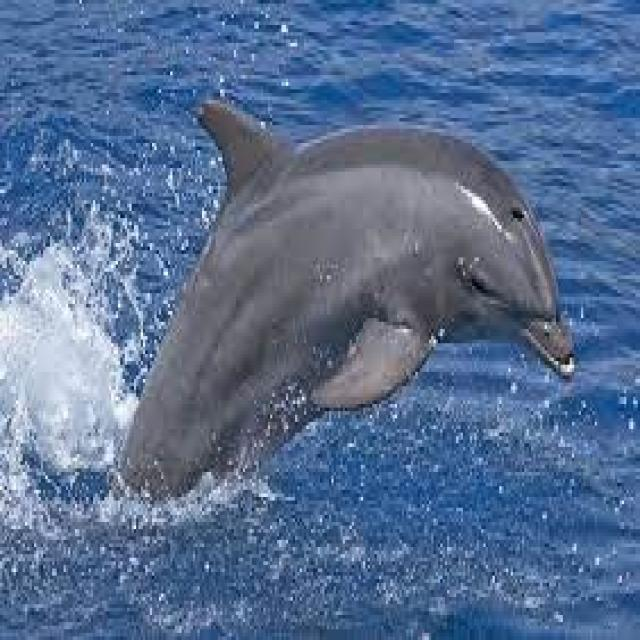Dolphin: (113, 102, 572, 480)
